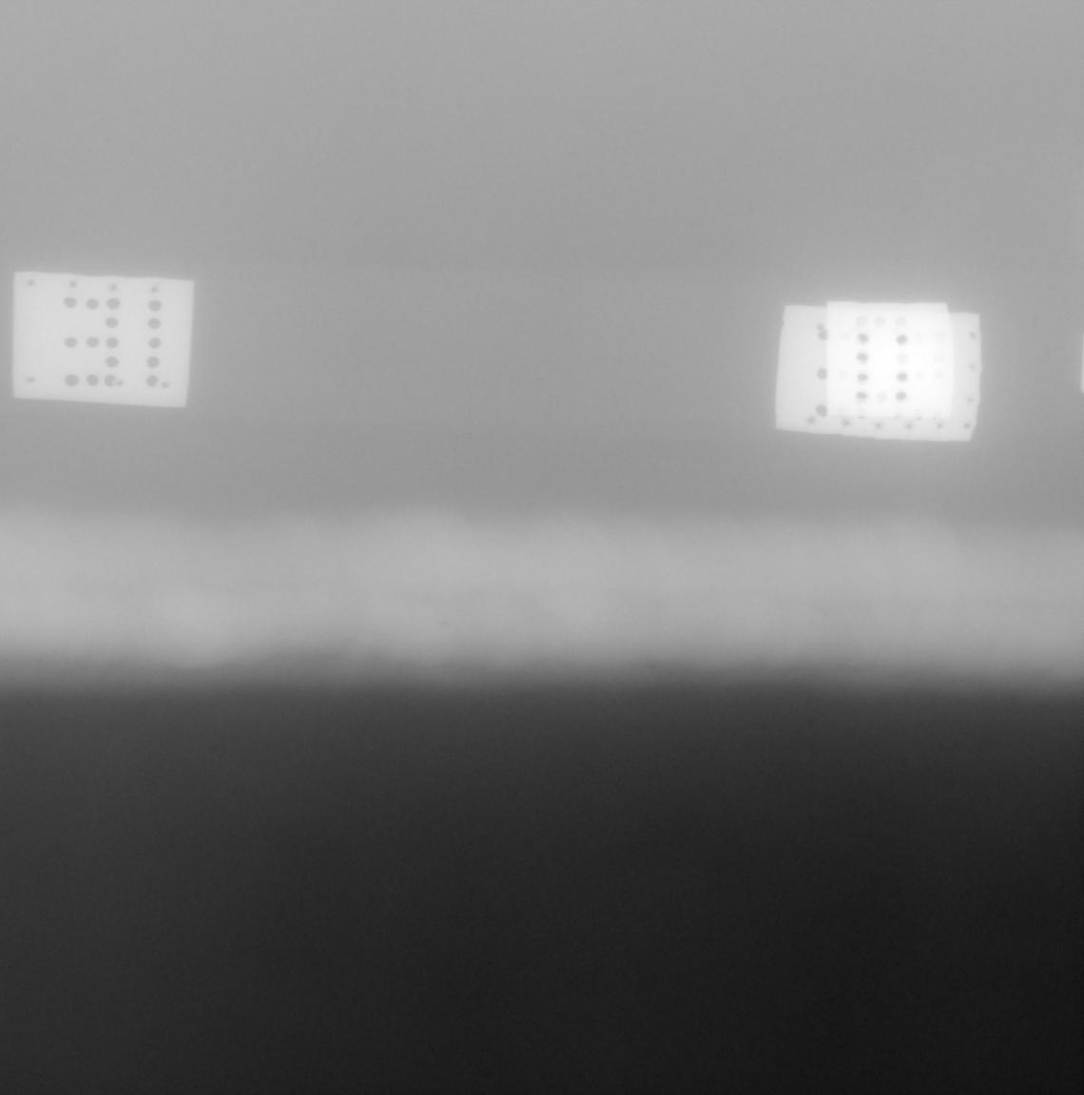Pore/Porosity: (440, 620, 451, 628)
